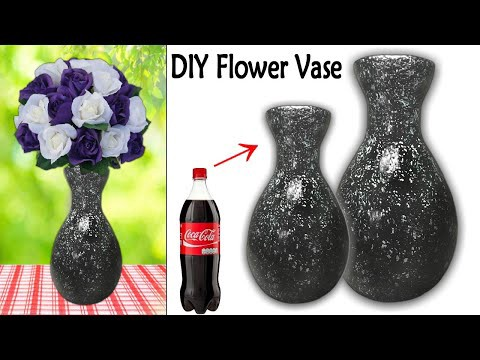plastic_bottle: (171, 141, 260, 349)
